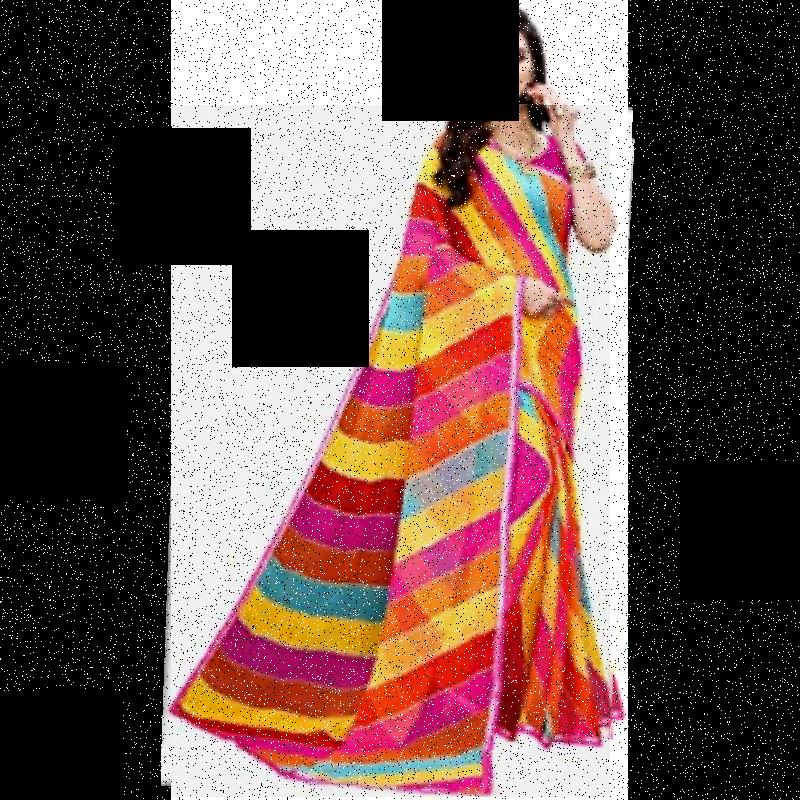Saree: (161, 105, 610, 797)
Shirt: (485, 136, 602, 738)
